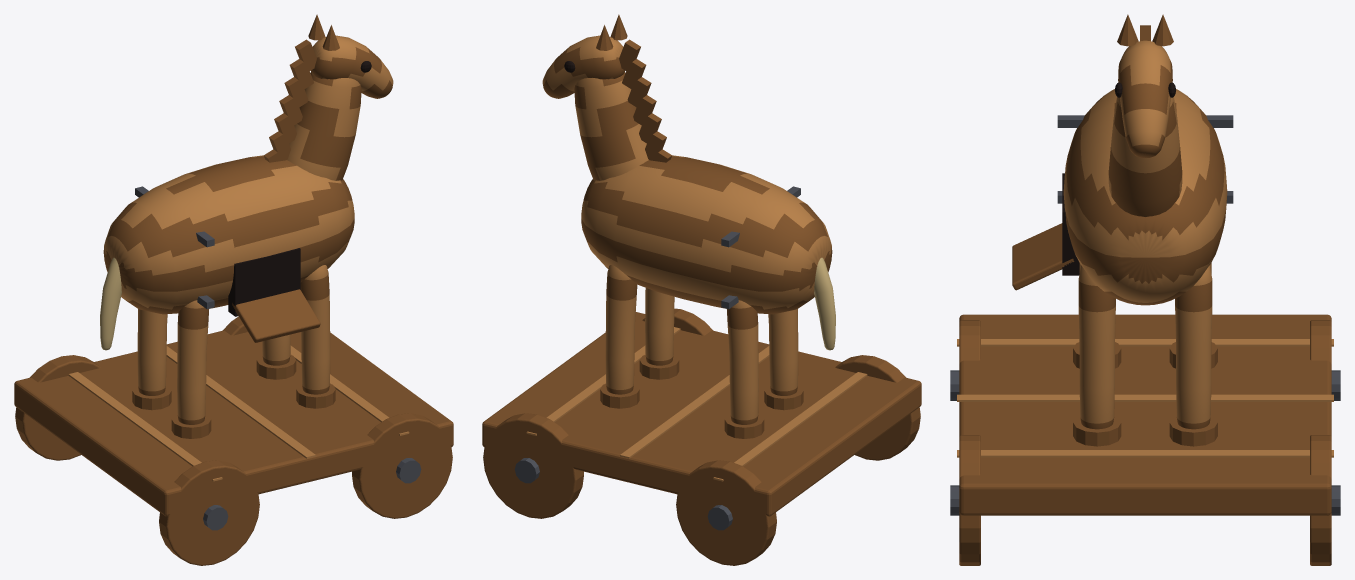
The model's file is caballo_troya.glb.
3 views of the same model, side by side, from view 1: azimuth 30°, elevation 25°; view 2: azimuth 150°, elevation 25°; view 3: azimuth 270°, elevation 25° (orthographic). The views are drawn at different scales.
Visible parts, largest first — view 1: plataforma, cuerpo, rueda-1-1, rueda1-1, cuello, pata-1-1, pata1-1, trampilla_hueco, trampilla, cabeza, rueda-11, pata-11 (+9 smaller); view 2: plataforma, cuerpo, rueda-11, rueda11, cuello, pata11, pata-11, cabeza, rueda-1-1, pata-1-1, pata1-1, liston0 (+8 smaller); view 3: plataforma, cuerpo, cuello, pata1-1, pata11, cabeza, liston2, liston1, trampilla, liston0, rueda1-1, rueda11 (+6 smaller).
Boxes of the visible parts, x1,y1,x2,y2 form: plataforma: [14, 330, 453, 516]; cuerpo: [103, 155, 354, 314]; rueda-1-1: [159, 460, 259, 565]; rueda1-1: [352, 413, 452, 518]; cuello: [287, 72, 361, 180]; pata-1-1: [177, 300, 208, 424]; pata1-1: [300, 265, 330, 394]; trampilla_hueco: [228, 248, 300, 316]; trampilla: [232, 289, 320, 342]; cabeza: [311, 35, 393, 98]; rueda-11: [15, 355, 100, 460]; pata-11: [137, 309, 167, 395]; plataforma: [482, 312, 921, 516]; cuerpo: [581, 155, 832, 314]; rueda-11: [676, 460, 776, 565]; rueda11: [483, 413, 583, 518]; cuello: [574, 72, 648, 180]; pata11: [605, 265, 637, 394]; pata-11: [727, 300, 758, 424]; cabeza: [542, 35, 624, 98]; rueda-1-1: [835, 355, 920, 460]; pata-1-1: [768, 309, 798, 395]; pata1-1: [645, 288, 674, 365]; liston0: [713, 372, 867, 481]; plataforma: [959, 314, 1331, 515]; cuerpo: [1063, 89, 1227, 305]; cuello: [1108, 97, 1182, 216]; pata1-1: [1078, 265, 1115, 429]; pata11: [1175, 265, 1212, 429]; cabeza: [1118, 40, 1172, 157]; liston2: [957, 450, 1333, 457]; liston1: [957, 394, 1333, 401]; trampilla: [1012, 223, 1074, 290]; liston0: [957, 339, 1333, 346]; rueda1-1: [959, 435, 980, 565]; rueda11: [1310, 435, 1331, 565].
Bounding box in the file's own units: 1.94 × 2.73 × 1.78.
